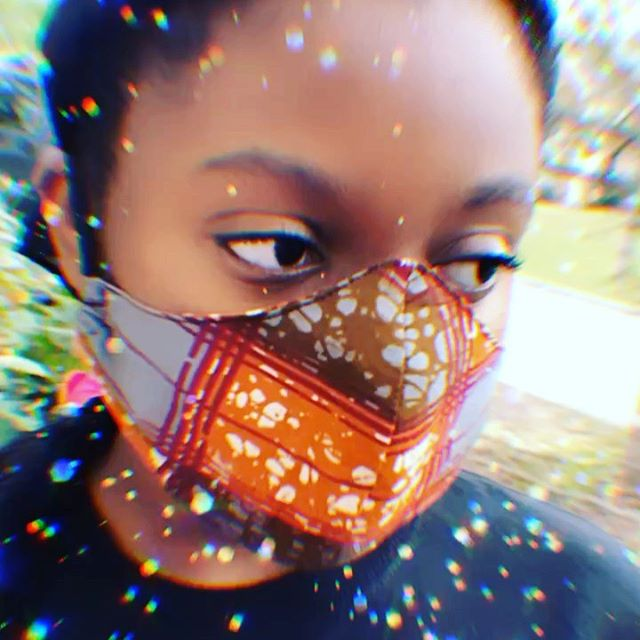homemade: (89, 271, 538, 563)
